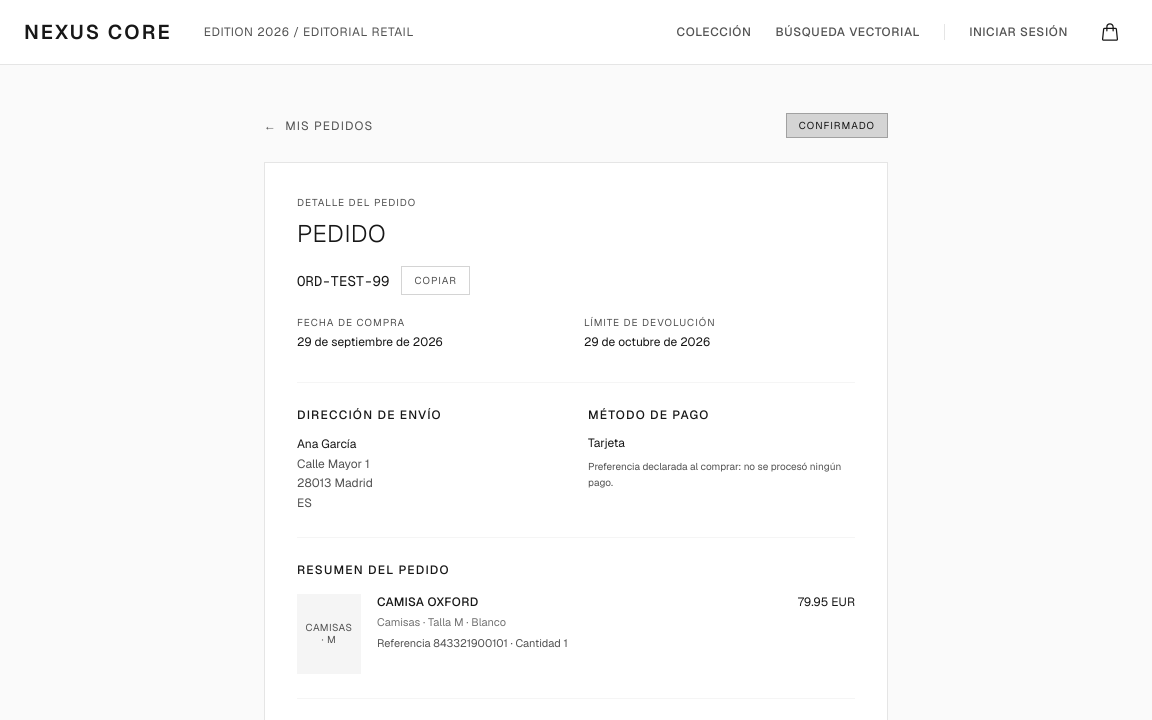
Test case: OrderDetailPage — rediseño (spec order-detail-redesign) › R6 — copia el número de pedido con el botón «Copiar»
expect the text "Detalle del pedido" is shown: met, box 297,196 -> 416,209
Click the button with test id "copy-order-number". click: (436, 280)
box: 401,266 -> 470,295
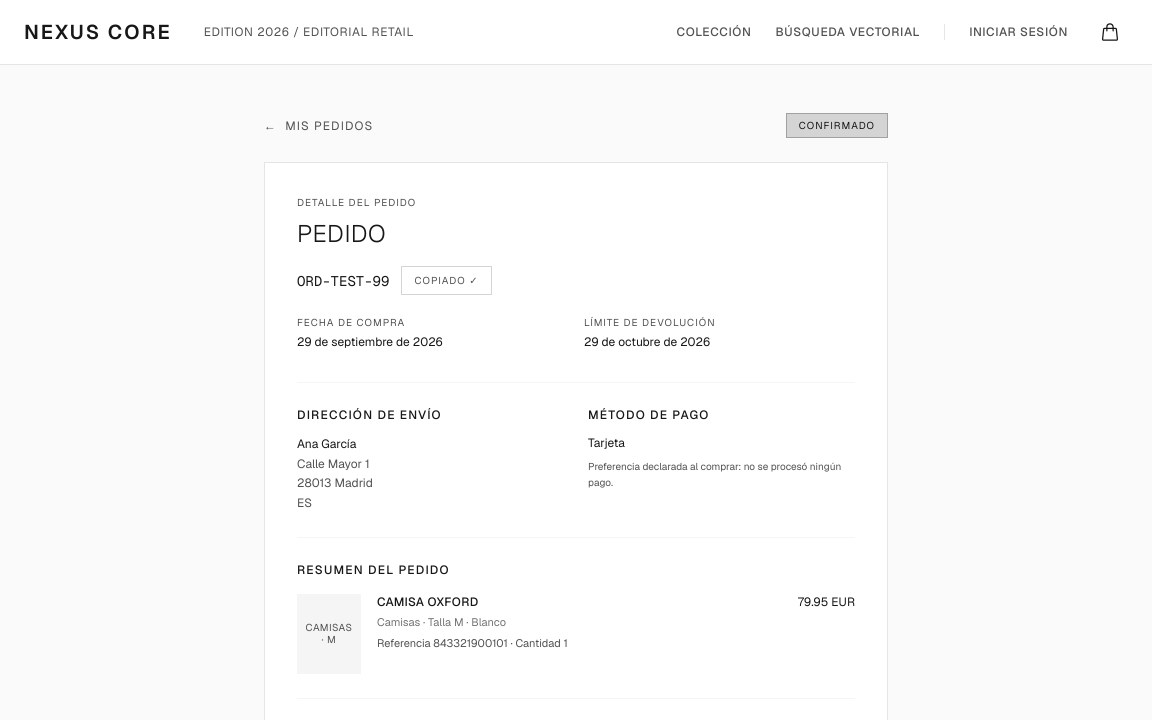
expect the button with test id "copy-order-number" shows "Copiado": met, box 401,266 -> 492,295
